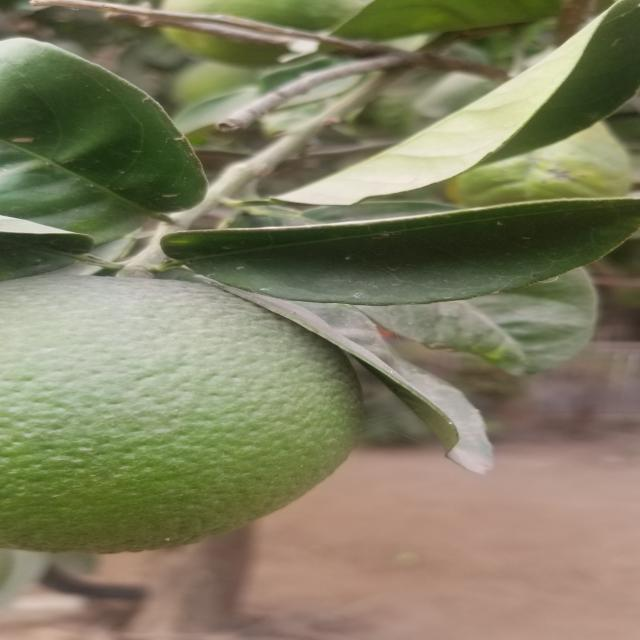Unripe: (13, 271, 372, 551)
